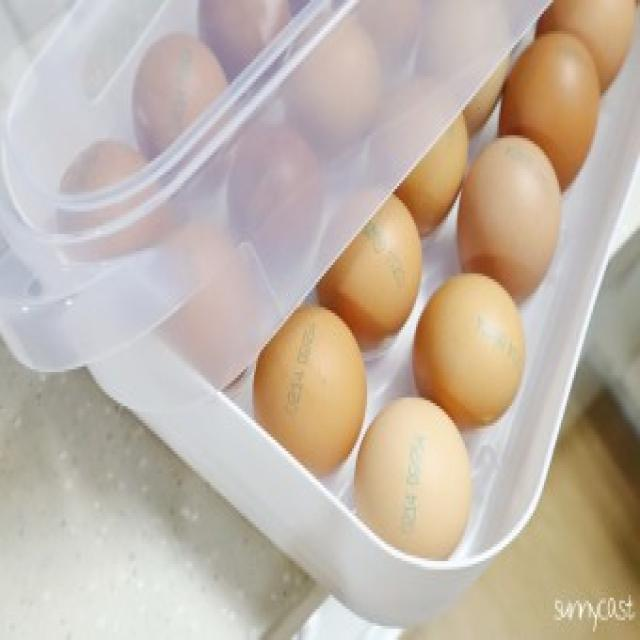eggs: (407, 269, 530, 427), (358, 394, 470, 566), (460, 132, 565, 302), (256, 305, 361, 472), (311, 190, 426, 339), (504, 29, 588, 192)
